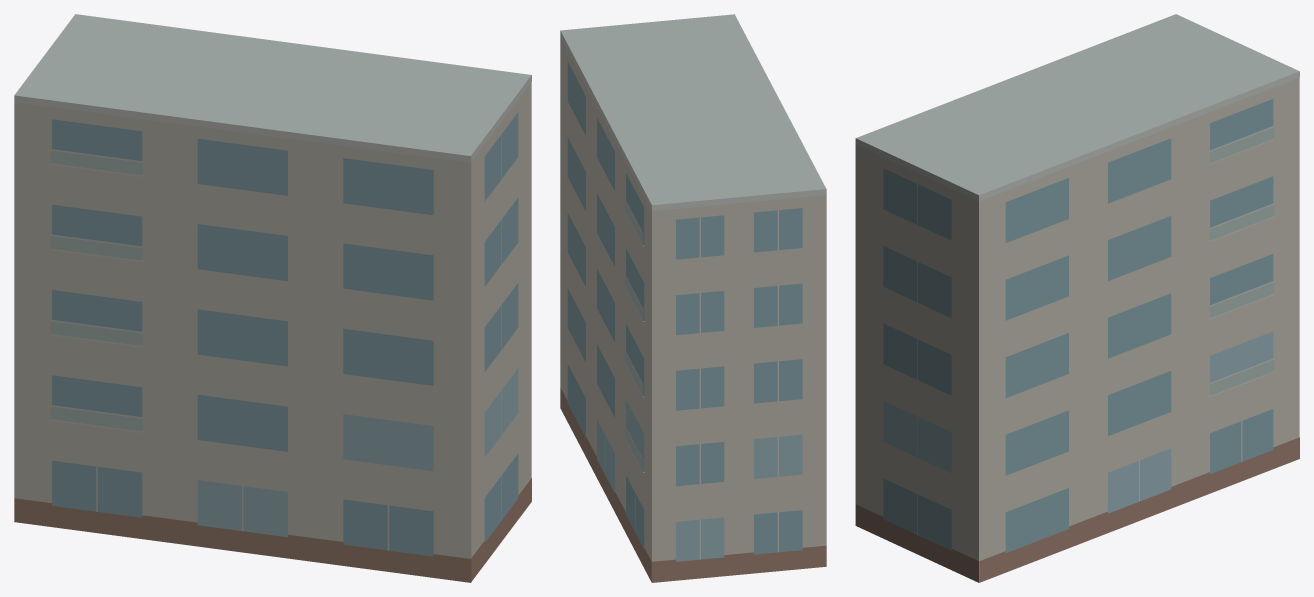
Rendered from survey-upis-32619400.glb.
3 views of the same model, side by side, from view 1: azimuth 30°, elevation 25°; view 2: azimuth 150°, elevation 25°; view 3: azimuth 270°, elevation 25° (orthographic). The views are drawn at different scales.
Visible parts, largest first — view 1: survey-upis-32619400.tmp; view 2: survey-upis-32619400.tmp; view 3: survey-upis-32619400.tmp.
Boxes of the visible parts, box(x1,y1,x2,y2) form: survey-upis-32619400.tmp: box(14, 14, 531, 582); survey-upis-32619400.tmp: box(560, 14, 826, 582); survey-upis-32619400.tmp: box(855, 14, 1299, 582).
Size of the model in its own units: 15.71 by 15.65 by 16.28.
